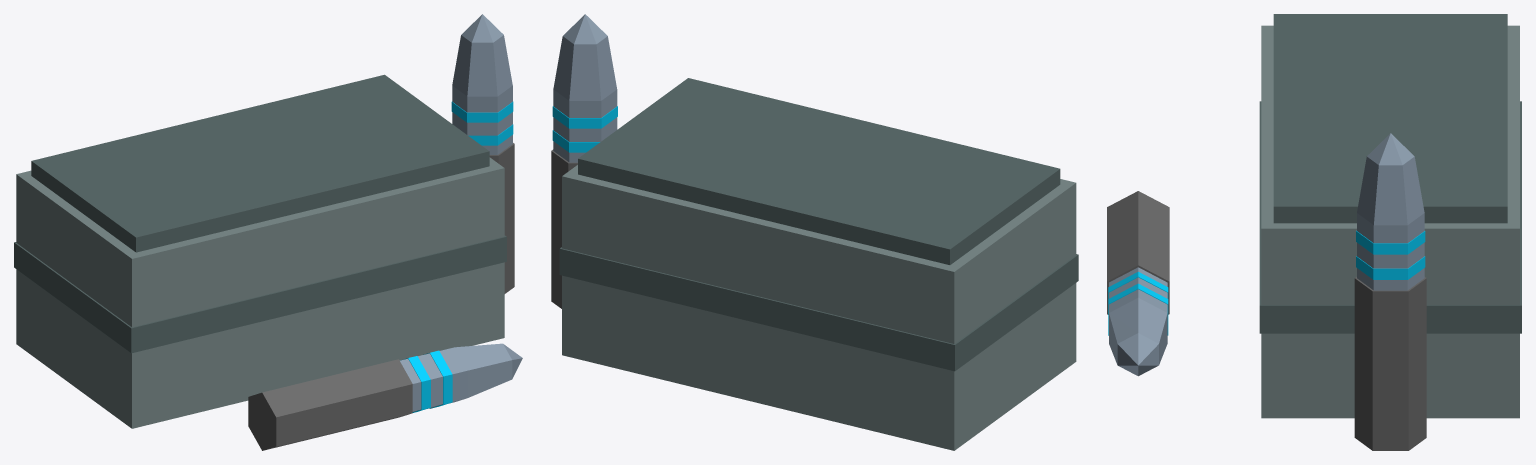
The model's file is ce_ammo2_rcl84_emp_c.obj.
The picture shows the model from 3 angles, left to right: view 1: azimuth 30°, elevation 25°; view 2: azimuth 150°, elevation 25°; view 3: azimuth 270°, elevation 25°; orthographic projection. The views are drawn at different scales.
Parts seen in each view (by area): view 1: ce_ammo2_rcl84_emp_c_0, ce_ammo2_rcl84_emp_c_1, ce_ammo2_rcl84_emp_c_2, ce_ammo2_rcl84_emp_c_11, ce_ammo2_rcl84_emp_c_9, ce_ammo2_rcl84_emp_c_17, ce_ammo2_rcl84_emp_c_3, ce_ammo2_rcl84_emp_c_8, ce_ammo2_rcl84_emp_c_16, ce_ammo2_rcl84_emp_c_6, ce_ammo2_rcl84_emp_c_10, ce_ammo2_rcl84_emp_c_7 (+4 smaller); view 2: ce_ammo2_rcl84_emp_c_0, ce_ammo2_rcl84_emp_c_1, ce_ammo2_rcl84_emp_c_2, ce_ammo2_rcl84_emp_c_9, ce_ammo2_rcl84_emp_c_3, ce_ammo2_rcl84_emp_c_8, ce_ammo2_rcl84_emp_c_6, ce_ammo2_rcl84_emp_c_10, ce_ammo2_rcl84_emp_c_7; view 3: ce_ammo2_rcl84_emp_c_1, ce_ammo2_rcl84_emp_c_0, ce_ammo2_rcl84_emp_c_3, ce_ammo2_rcl84_emp_c_2, ce_ammo2_rcl84_emp_c_11, ce_ammo2_rcl84_emp_c_9, ce_ammo2_rcl84_emp_c_17, ce_ammo2_rcl84_emp_c_18, ce_ammo2_rcl84_emp_c_8, ce_ammo2_rcl84_emp_c_6, ce_ammo2_rcl84_emp_c_10, ce_ammo2_rcl84_emp_c_7 (+4 smaller).
Boxes of the visible parts, x1=… form: ce_ammo2_rcl84_emp_c_0: x1=16, y1=157, x2=504, y2=428; ce_ammo2_rcl84_emp_c_1: x1=31, y1=74, x2=489, y2=252; ce_ammo2_rcl84_emp_c_2: x1=14, y1=235, x2=506, y2=353; ce_ammo2_rcl84_emp_c_11: x1=248, y1=359, x2=412, y2=450; ce_ammo2_rcl84_emp_c_9: x1=452, y1=35, x2=512, y2=96; ce_ammo2_rcl84_emp_c_17: x1=455, y1=343, x2=512, y2=397; ce_ammo2_rcl84_emp_c_3: x1=489, y1=143, x2=514, y2=293; ce_ammo2_rcl84_emp_c_8: x1=452, y1=85, x2=512, y2=112; ce_ammo2_rcl84_emp_c_16: x1=439, y1=347, x2=467, y2=403; ce_ammo2_rcl84_emp_c_6: x1=452, y1=112, x2=512, y2=135; ce_ammo2_rcl84_emp_c_10: x1=461, y1=14, x2=503, y2=42; ce_ammo2_rcl84_emp_c_7: x1=451, y1=101, x2=513, y2=122; ce_ammo2_rcl84_emp_c_0: x1=562, y1=165, x2=1076, y2=450; ce_ammo2_rcl84_emp_c_1: x1=578, y1=78, x2=1060, y2=264; ce_ammo2_rcl84_emp_c_2: x1=559, y1=247, x2=1078, y2=371; ce_ammo2_rcl84_emp_c_9: x1=553, y1=36, x2=616, y2=100; ce_ammo2_rcl84_emp_c_3: x1=551, y1=149, x2=577, y2=308; ce_ammo2_rcl84_emp_c_8: x1=553, y1=89, x2=617, y2=117; ce_ammo2_rcl84_emp_c_6: x1=553, y1=117, x2=617, y2=141; ce_ammo2_rcl84_emp_c_10: x1=563, y1=14, x2=607, y2=44; ce_ammo2_rcl84_emp_c_7: x1=552, y1=106, x2=617, y2=128; ce_ammo2_rcl84_emp_c_1: x1=1273, y1=14, x2=1507, y2=223; ce_ammo2_rcl84_emp_c_0: x1=1261, y1=25, x2=1519, y2=418; ce_ammo2_rcl84_emp_c_3: x1=1354, y1=277, x2=1426, y2=450; ce_ammo2_rcl84_emp_c_2: x1=1259, y1=101, x2=1521, y2=333; ce_ammo2_rcl84_emp_c_11: x1=1107, y1=191, x2=1169, y2=314; ce_ammo2_rcl84_emp_c_9: x1=1357, y1=156, x2=1424, y2=225; ce_ammo2_rcl84_emp_c_17: x1=1109, y1=297, x2=1167, y2=364; ce_ammo2_rcl84_emp_c_18: x1=1117, y1=333, x2=1158, y2=376; ce_ammo2_rcl84_emp_c_8: x1=1357, y1=213, x2=1424, y2=243; ce_ammo2_rcl84_emp_c_6: x1=1357, y1=242, x2=1424, y2=268; ce_ammo2_rcl84_emp_c_10: x1=1367, y1=133, x2=1414, y2=165; ce_ammo2_rcl84_emp_c_7: x1=1356, y1=230, x2=1425, y2=254.
Bounding box in the file's own units: 0.9087 × 0.546 × 0.6737.
